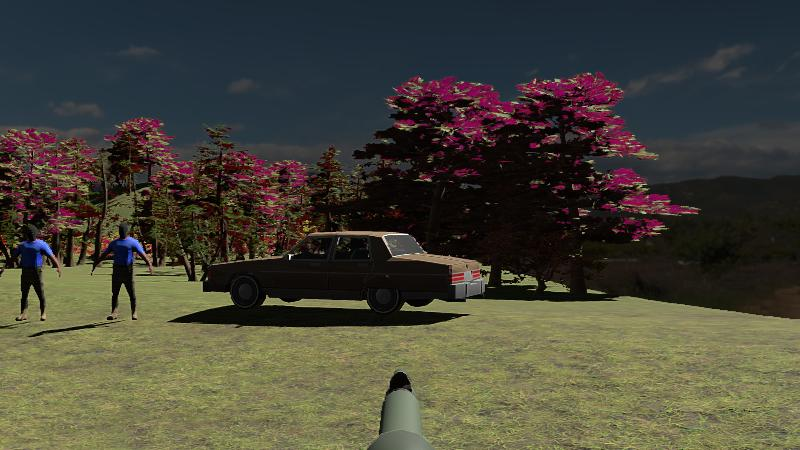Human: (92, 222, 153, 321), (3, 227, 61, 322)
car: (203, 229, 485, 315)
